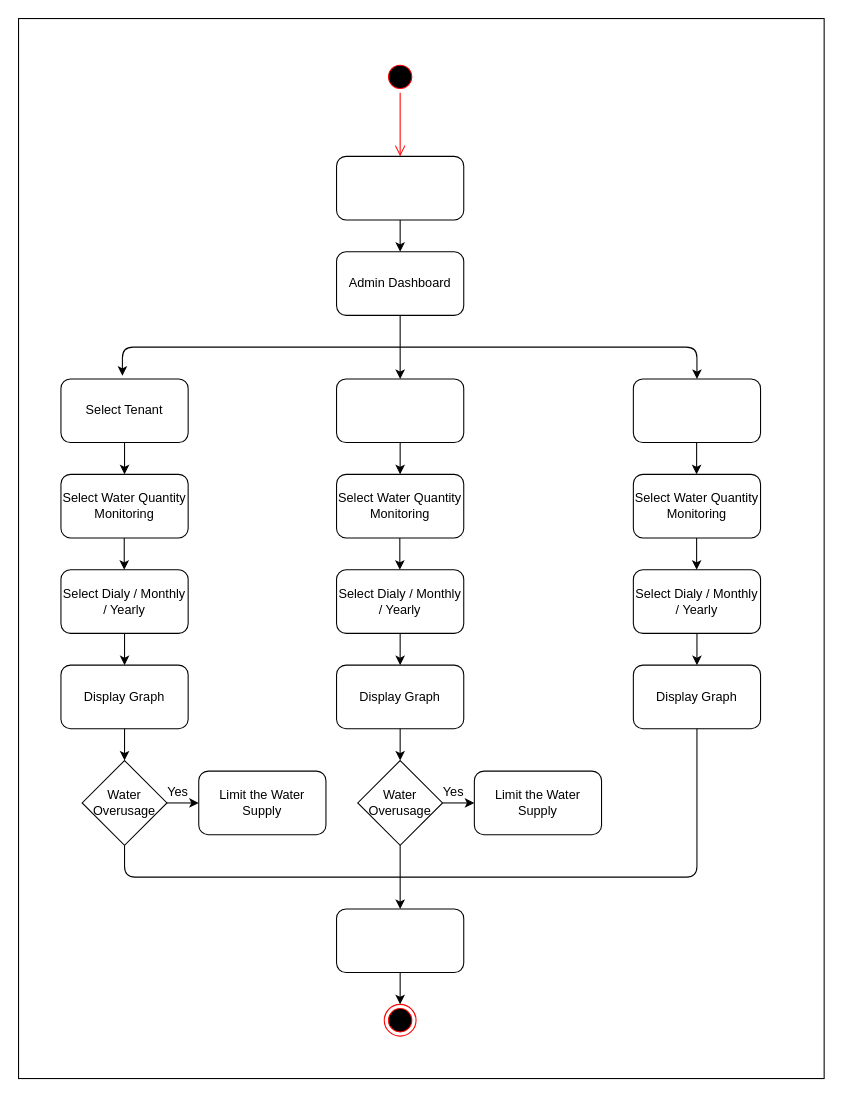
This 843x1097 diagram has some shape labels left out. The box of each missing label's shape, as (x1, y1, x2, y2) in pixels:
Admin Login: (335, 155, 464, 220)
Logout: (335, 908, 464, 973)
Overall View: (632, 378, 761, 443)
Select User: (335, 378, 464, 443)
